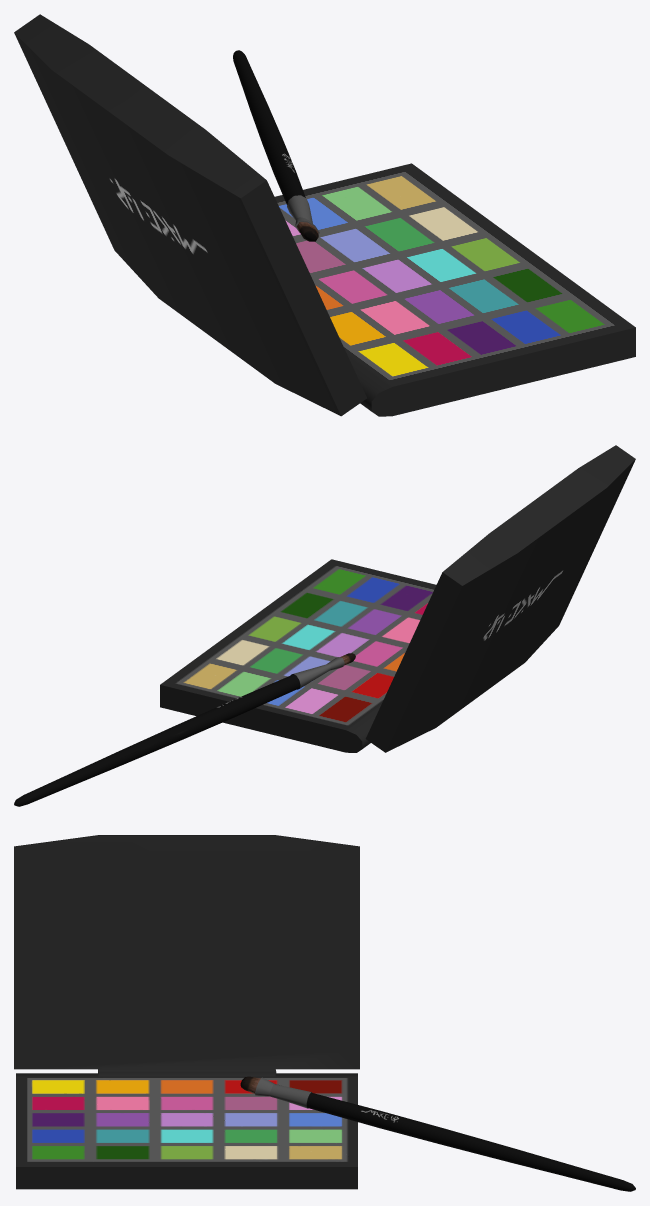
File: make up.fbx
3 renders of one model, top to bottom at view 1: azimuth 30°, elevation 25°; view 2: azimuth 150°, elevation 25°; view 3: azimuth 270°, elevation 25°, orthographic. The views are drawn at different scales.
Parts seen in each view (by area): view 1: polySurface3, polySurface1; view 2: polySurface3, polySurface1; view 3: polySurface3, polySurface1.
Part boxes in pixels (x1=…): polySurface3: x1=14, y1=14, x2=635, y2=416; polySurface1: x1=233, y1=50, x2=319, y2=241; polySurface3: x1=160, y1=445, x2=635, y2=752; polySurface1: x1=14, y1=653, x2=355, y2=806; polySurface3: x1=14, y1=835, x2=359, y2=1189; polySurface1: x1=240, y1=1076, x2=635, y2=1191.
Bounding box in the file's own units: 15.1 × 9.53 × 25.17.
